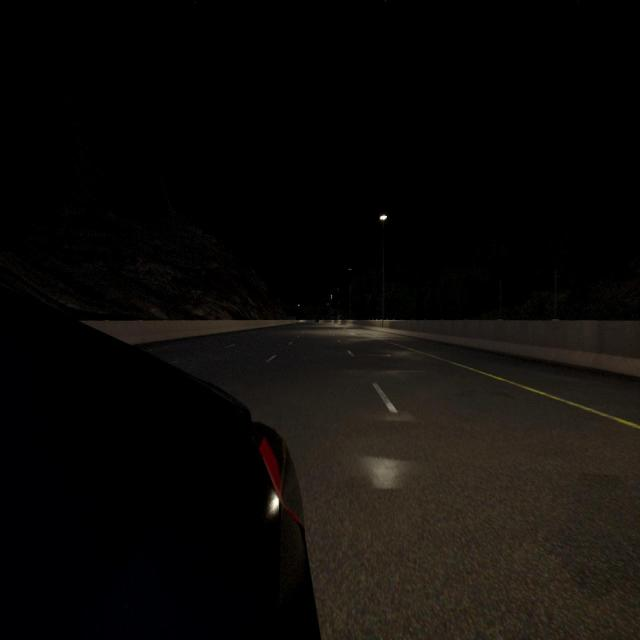Vehicle: (0, 288, 320, 640)
